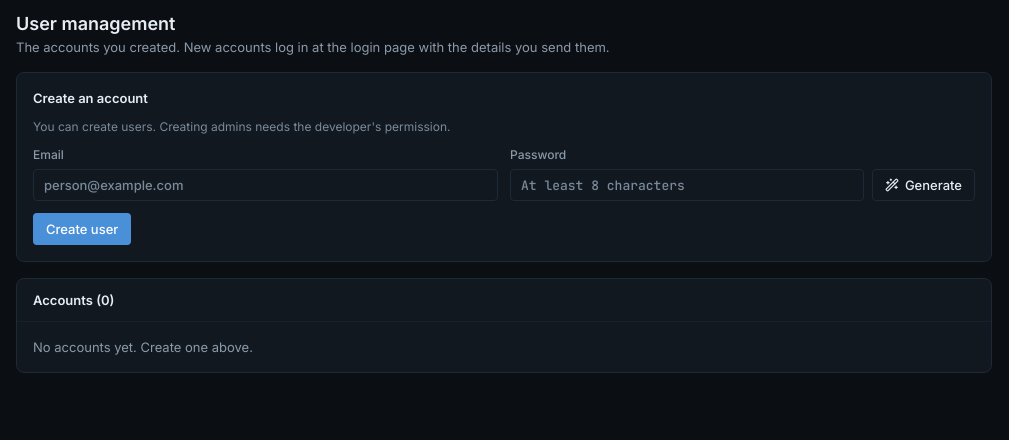
UserManagementPage › shows the server's error (e.g. the email is taken)
Type "u1@x.co" into the field labelled "Email" at [266, 185], box [33,169,498,201]
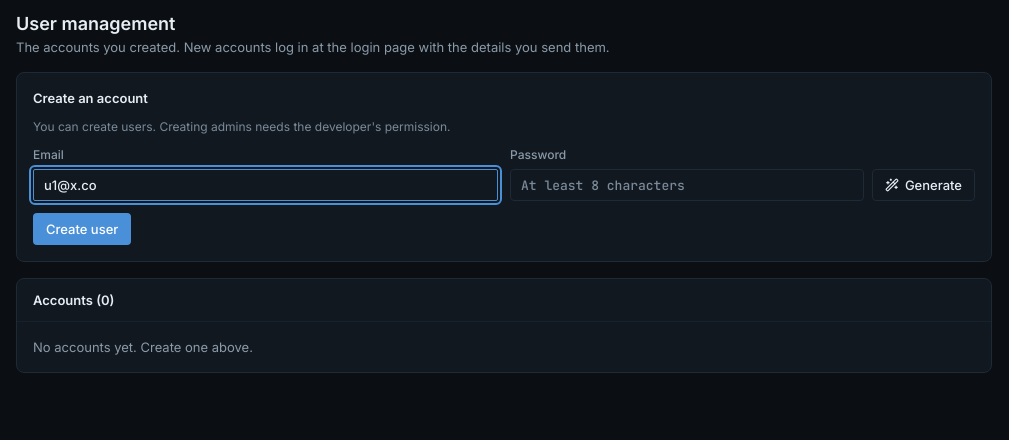
Type "secret123" into the field labelled "Password" at [687, 185], box [510,169,864,201]
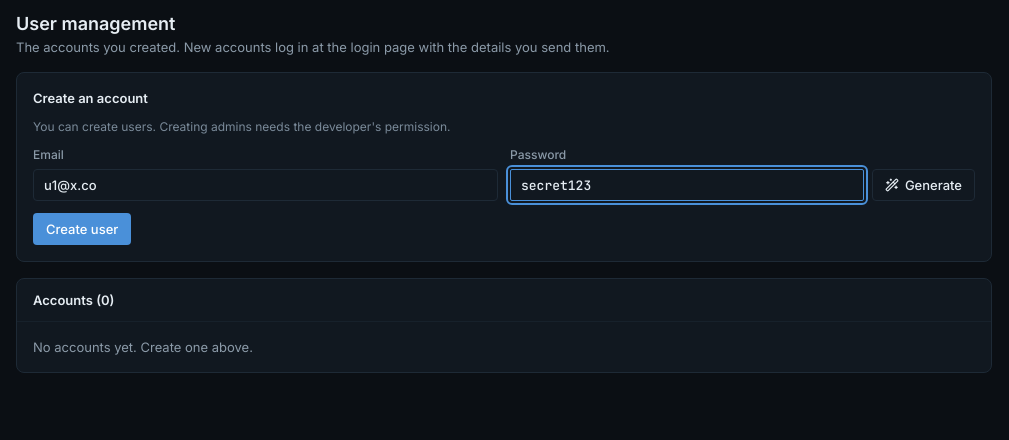
Click the button "Create user" at [82, 229], box [33,213,131,245]
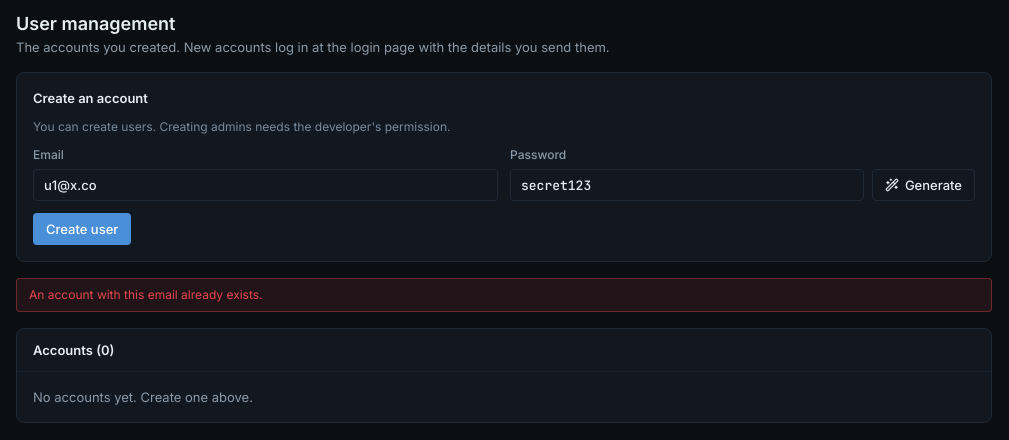
expect the message reads "An account with this email already exists.": met, box [29,287,262,302]
